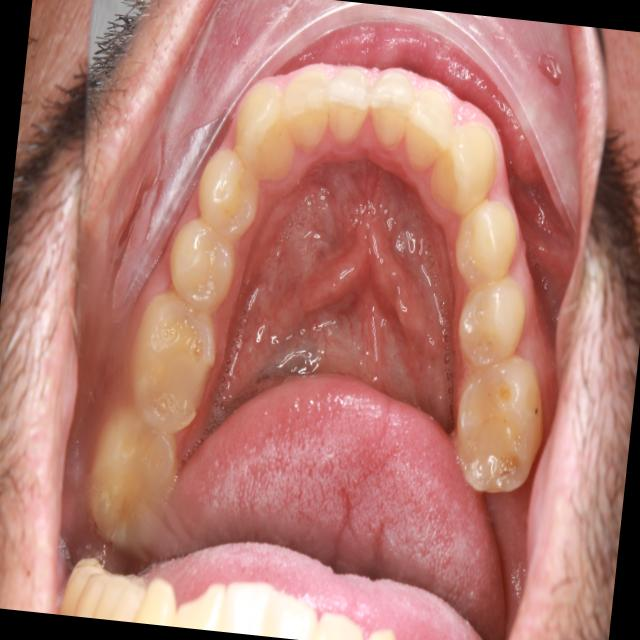tooth: (438, 339, 552, 516), (114, 276, 230, 448), (74, 387, 190, 558), (219, 69, 315, 203), (424, 103, 507, 231), (448, 262, 534, 385), (441, 185, 525, 299), (354, 43, 426, 175), (158, 210, 244, 320), (194, 140, 273, 246), (392, 70, 463, 187), (314, 56, 383, 168), (270, 59, 345, 160)
